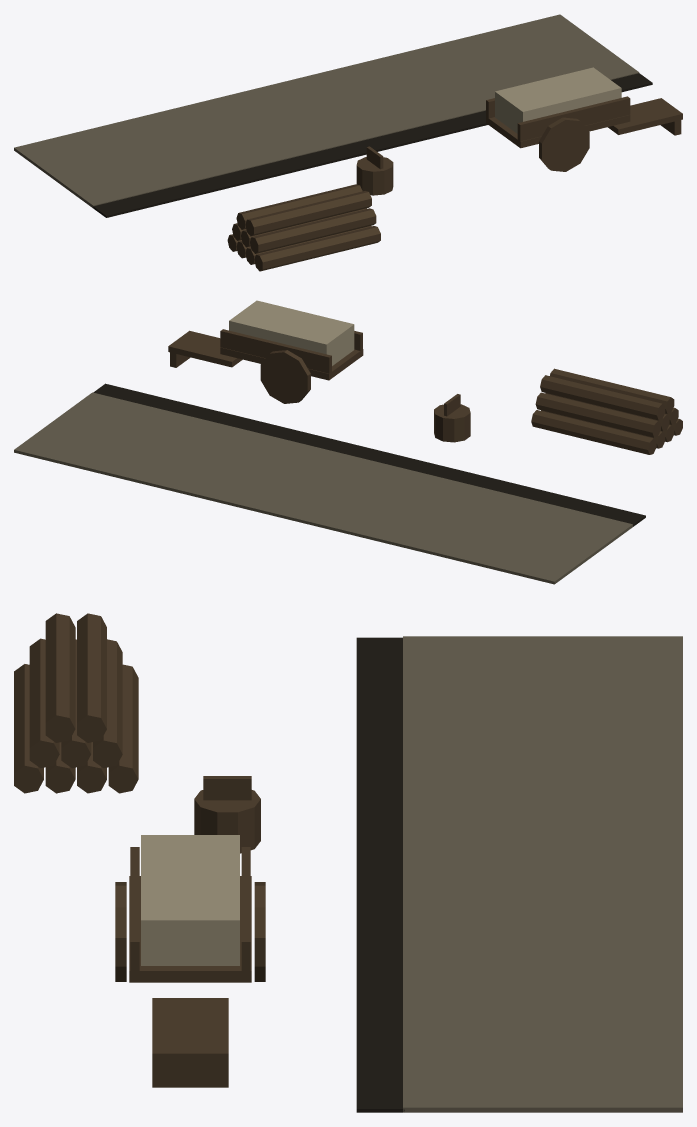
The model's file is DressingWoodpile.fbx.
3 renders of one model, top to bottom at view 1: azimuth 30°, elevation 25°; view 2: azimuth 150°, elevation 25°; view 3: azimuth 270°, elevation 25°, orthographic. The views are drawn at different scales.
Parts seen in each view (by area): view 1: DressingWoodpile; view 2: DressingWoodpile; view 3: DressingWoodpile.
Boxes of the visible parts, <box> form: DressingWoodpile: <box>14,14,682,271</box>; DressingWoodpile: <box>14,300,682,584</box>; DressingWoodpile: <box>14,613,682,1112</box>.
Size of the model in its own units: 1202 by 135 by 721.
4 materials, 4 textured.
